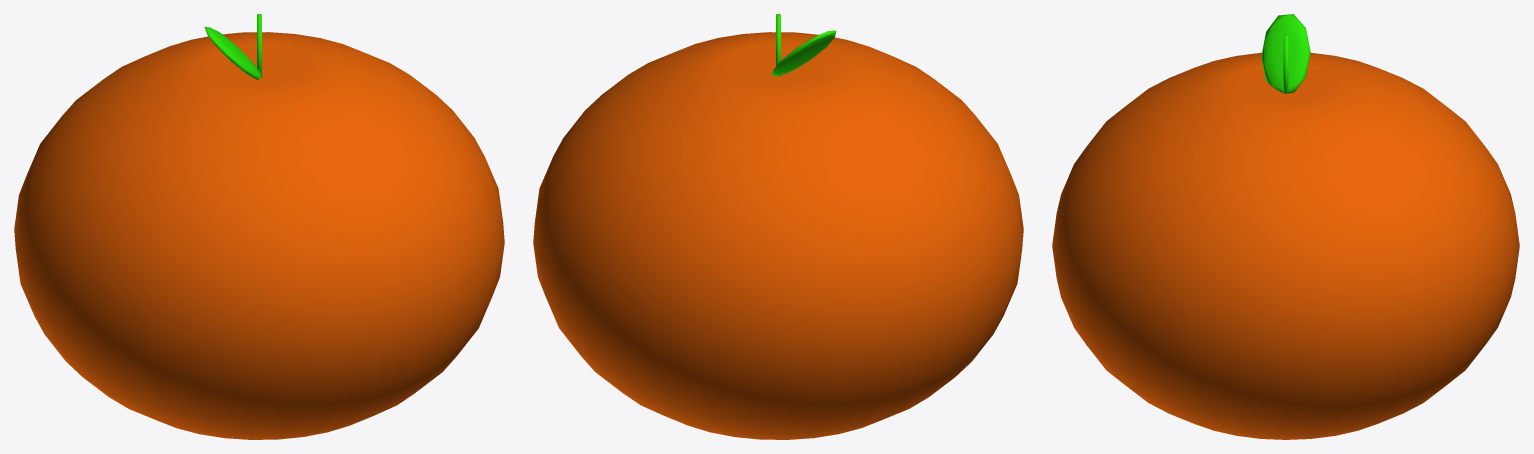
Rendered from orange.glb.
3 renders of one model, left to right at view 1: azimuth 30°, elevation 25°; view 2: azimuth 150°, elevation 25°; view 3: azimuth 270°, elevation 25°, orthographic. The views are drawn at different scales.
Visible parts, largest first — view 1: Sphere; view 2: Sphere; view 3: Sphere.
Part boxes in pixels (x1,y1,x2,y2): Sphere: (14,14,504,439); Sphere: (533,14,1023,439); Sphere: (1052,14,1519,439).
Bounding box in the file's own units: 2 × 1.78 × 2.
